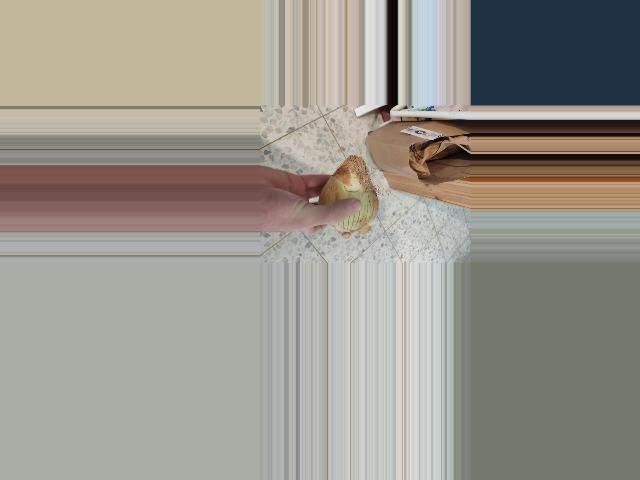onion: (312, 152, 388, 234)
